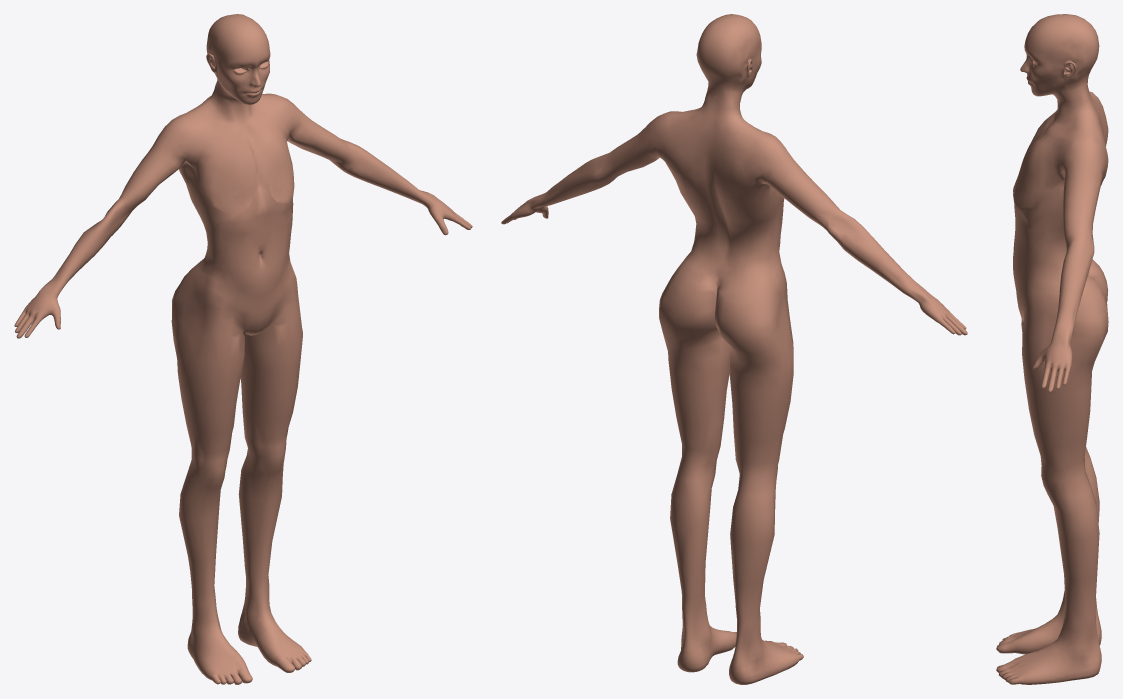
The model's file is slim_body.fbx.
3 views of the same model, side by side, from view 1: azimuth 30°, elevation 25°; view 2: azimuth 150°, elevation 25°; view 3: azimuth 270°, elevation 25° (orthographic).
Parts seen in each view (by area): view 1: barefoot001; view 2: barefoot001; view 3: barefoot001.
Part boxes in pixels (left/top/right/bottom): barefoot001: left=14, top=14, right=472, bottom=684; barefoot001: left=501, top=14, right=967, bottom=684; barefoot001: left=996, top=14, right=1108, bottom=684.
Size of the model in its own units: 10331 by 13810 by 2173.
